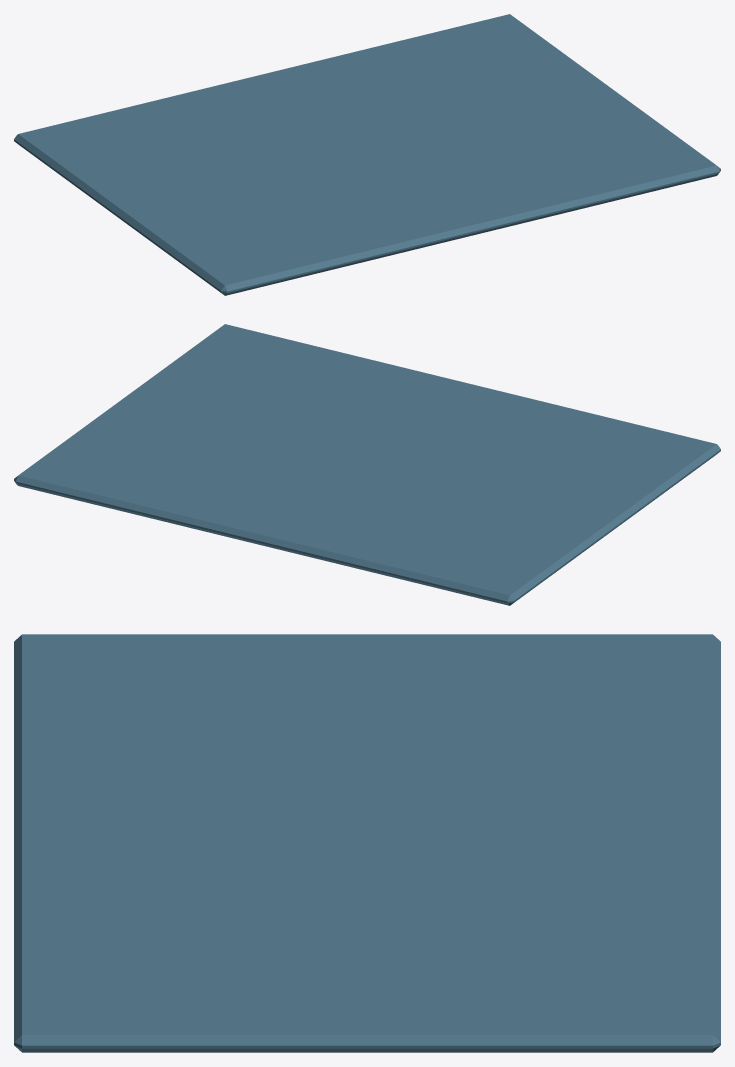
File: bath_mat.glb
3 views of the same model, one above another, from view 1: azimuth 30°, elevation 25°; view 2: azimuth 150°, elevation 25°; view 3: azimuth 270°, elevation 25° (orthographic). The views are drawn at different scales.
Visible parts, largest first — view 1: bath_mat; view 2: bath_mat; view 3: bath_mat.
Boxes of the visible parts, bbox=[...] form: bath_mat: bbox=[14, 14, 720, 295]; bath_mat: bbox=[14, 324, 720, 605]; bath_mat: bbox=[14, 634, 720, 1052].
Size of the model in its own units: 0.6 by 0.012 by 0.44.
